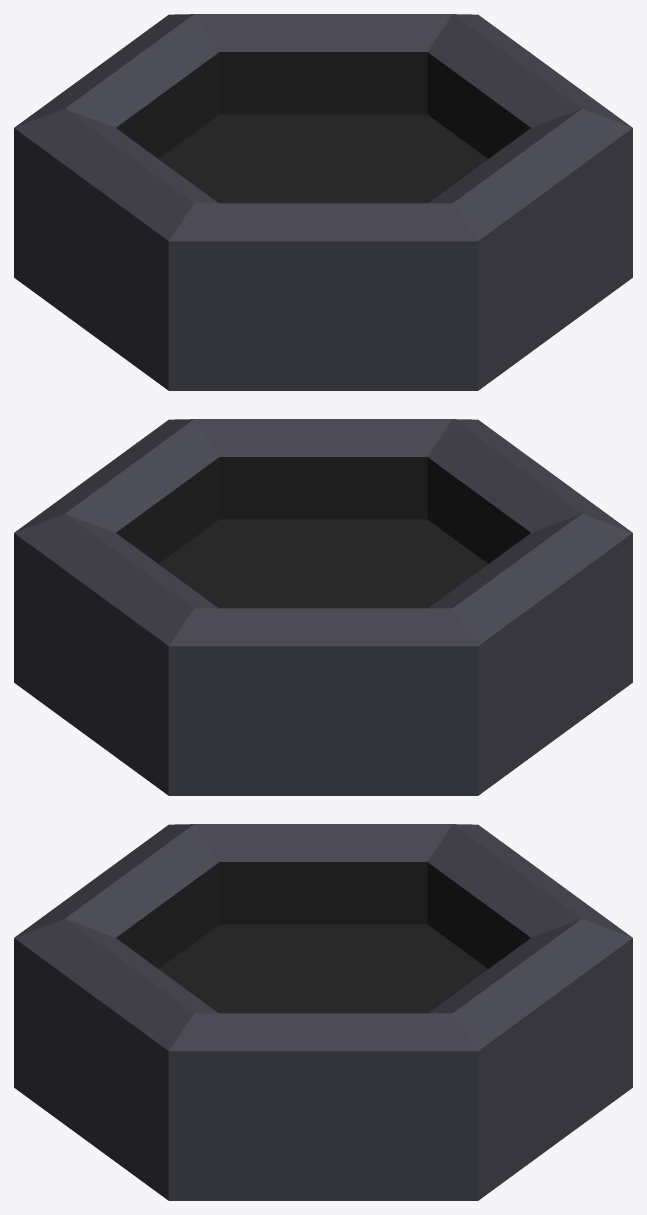
The model's file is keyhole.fbx.
3 views of the same model, one above another, from view 1: azimuth 30°, elevation 25°; view 2: azimuth 150°, elevation 25°; view 3: azimuth 270°, elevation 25° (orthographic).
Visible parts, largest first — view 1: keyhole; view 2: keyhole; view 3: keyhole.
Part boxes in pixels (x1,y1,x2,y2): keyhole: [14, 14, 632, 390]; keyhole: [14, 419, 632, 795]; keyhole: [14, 824, 632, 1200].
Bounding box in the file's own units: 0.3497 × 0.1216 × 0.4038.
